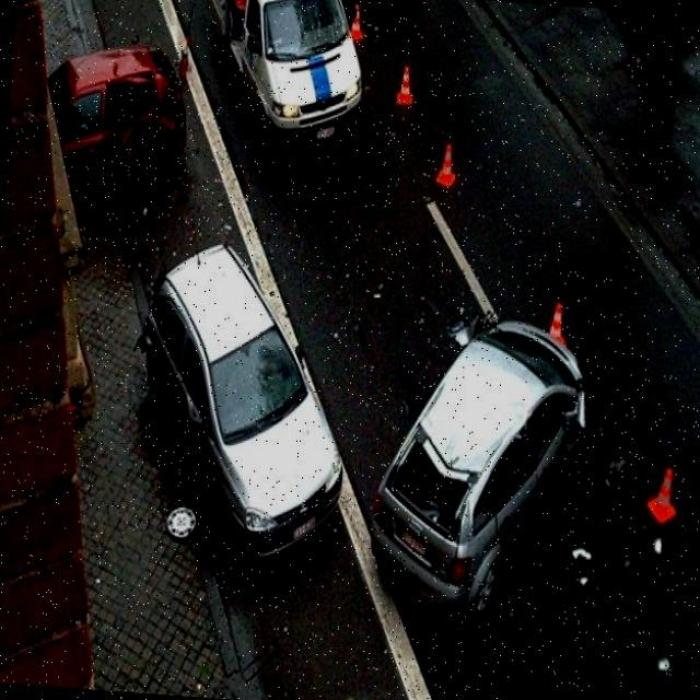Accident: (363, 250, 599, 617), (41, 38, 208, 209)
